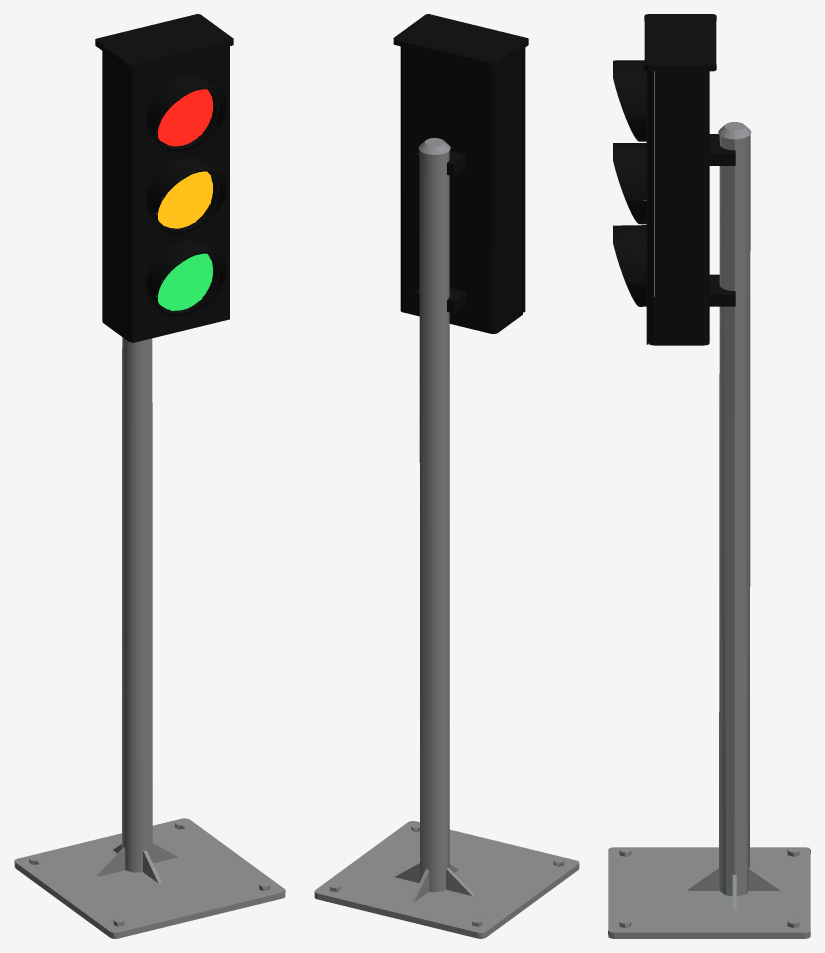
The model's file is signal.glb.
3 views of the same model, side by side, from view 1: azimuth 30°, elevation 25°; view 2: azimuth 150°, elevation 25°; view 3: azimuth 270°, elevation 25° (orthographic). The views are drawn at different scales.
Visible parts, largest first — view 1: signal; view 2: signal; view 3: signal.
Boxes of the visible parts, box(x1,y1,x2,y2) form: signal: box(14, 14, 285, 938); signal: box(314, 14, 579, 938); signal: box(608, 14, 810, 938).
Bounding box in the file's own units: 0.6012 × 2.8 × 0.6012.
